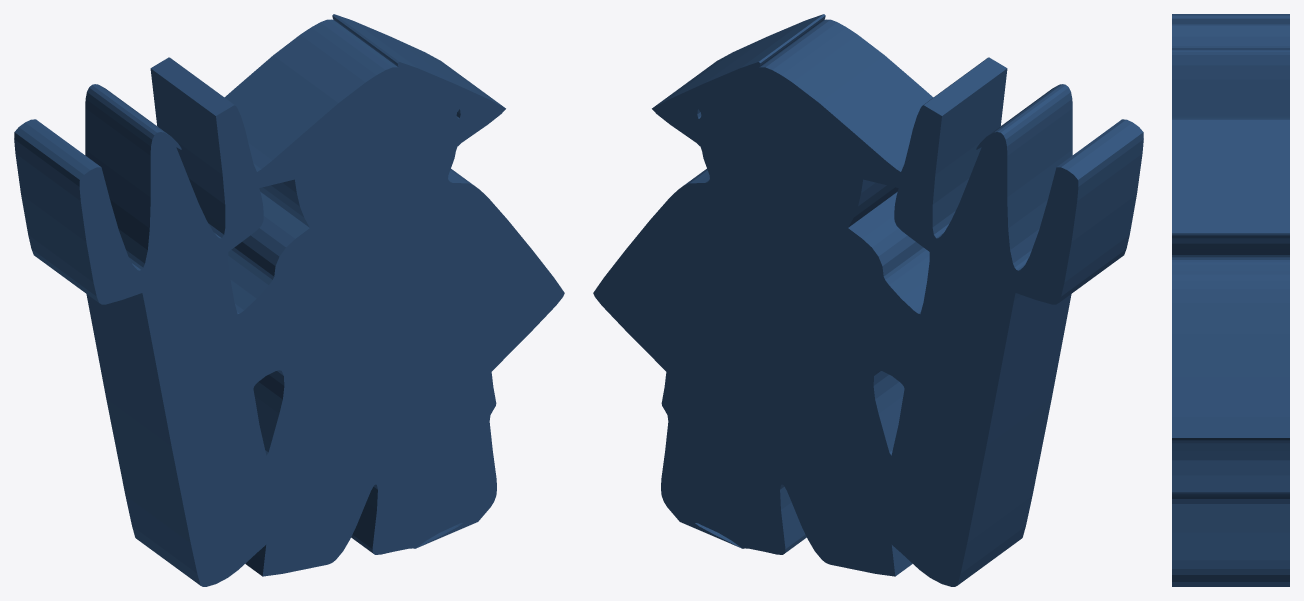
Rendered from tinker.obj.
The picture shows the model from 3 angles, left to right: view 1: azimuth 30°, elevation 25°; view 2: azimuth 150°, elevation 25°; view 3: azimuth 270°, elevation 25°; orthographic projection. The views are drawn at different scales.
Visible parts, largest first — view 1: obj_0; view 2: obj_0; view 3: obj_0.
Part boxes in pixels (x1,y1,x2,y2): obj_0: (14, 14, 564, 586); obj_0: (593, 14, 1143, 586); obj_0: (1172, 14, 1289, 586).
Size of the model in its own units: 30 by 29 by 7.
